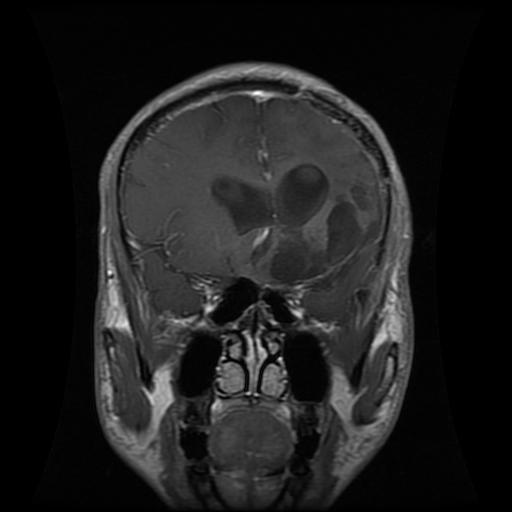Gliomia_tumour: (267, 177, 383, 293)
